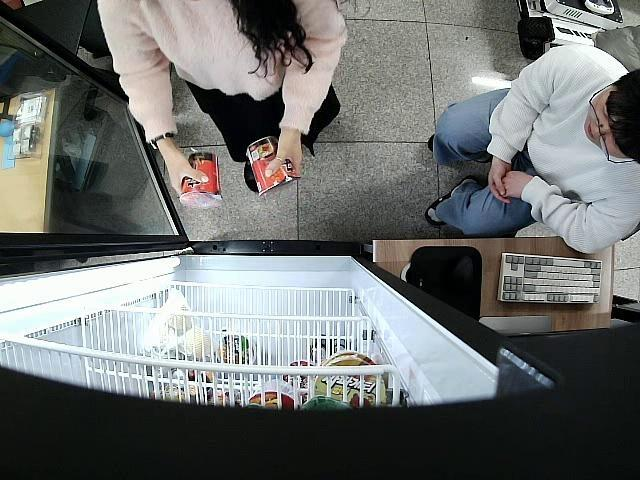02_shinRamen_S: (246, 137, 299, 198), (180, 150, 223, 210)
